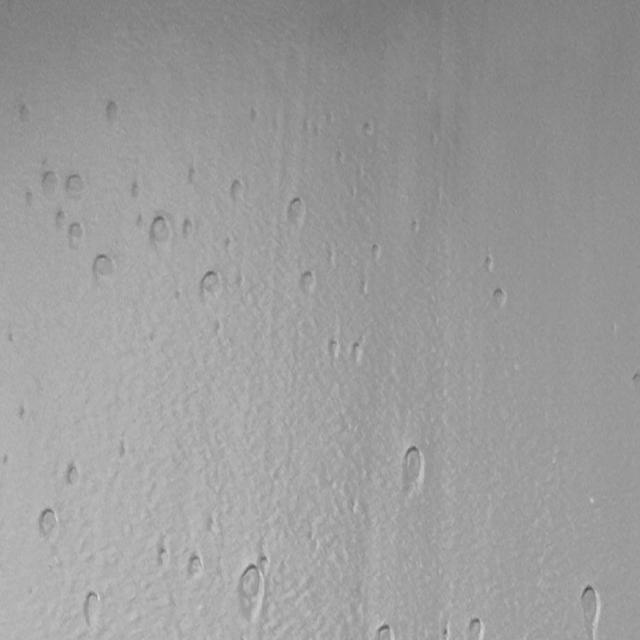pin holes: (234, 560, 268, 624), (572, 580, 605, 640), (399, 443, 428, 492), (33, 505, 60, 543), (146, 212, 172, 250), (79, 591, 103, 630), (89, 252, 118, 284), (197, 270, 223, 305), (284, 196, 307, 226), (296, 269, 319, 299), (183, 553, 205, 583), (66, 172, 89, 200), (37, 170, 58, 200), (64, 218, 85, 248), (464, 614, 487, 640), (487, 285, 508, 311), (104, 99, 124, 125), (14, 102, 35, 126), (62, 463, 82, 488), (228, 179, 247, 205), (349, 341, 368, 366), (154, 544, 172, 570), (13, 403, 32, 425), (182, 216, 198, 242), (325, 338, 342, 362), (128, 181, 144, 205), (374, 624, 396, 640), (368, 240, 384, 261), (117, 438, 130, 463), (407, 217, 421, 240), (361, 120, 377, 140), (235, 270, 248, 294), (52, 212, 66, 234), (187, 165, 201, 185), (482, 254, 496, 273), (336, 147, 347, 170), (206, 514, 218, 535), (214, 318, 226, 339), (1, 452, 15, 468), (429, 126, 437, 153), (630, 371, 639, 390), (224, 236, 233, 253), (361, 277, 369, 295), (442, 623, 450, 640), (313, 122, 320, 141), (250, 104, 256, 124)
